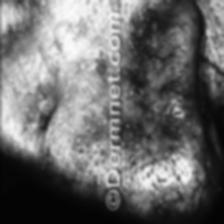Non-Cancerous Skin Condition: (128, 7, 190, 212), (66, 79, 102, 185)
